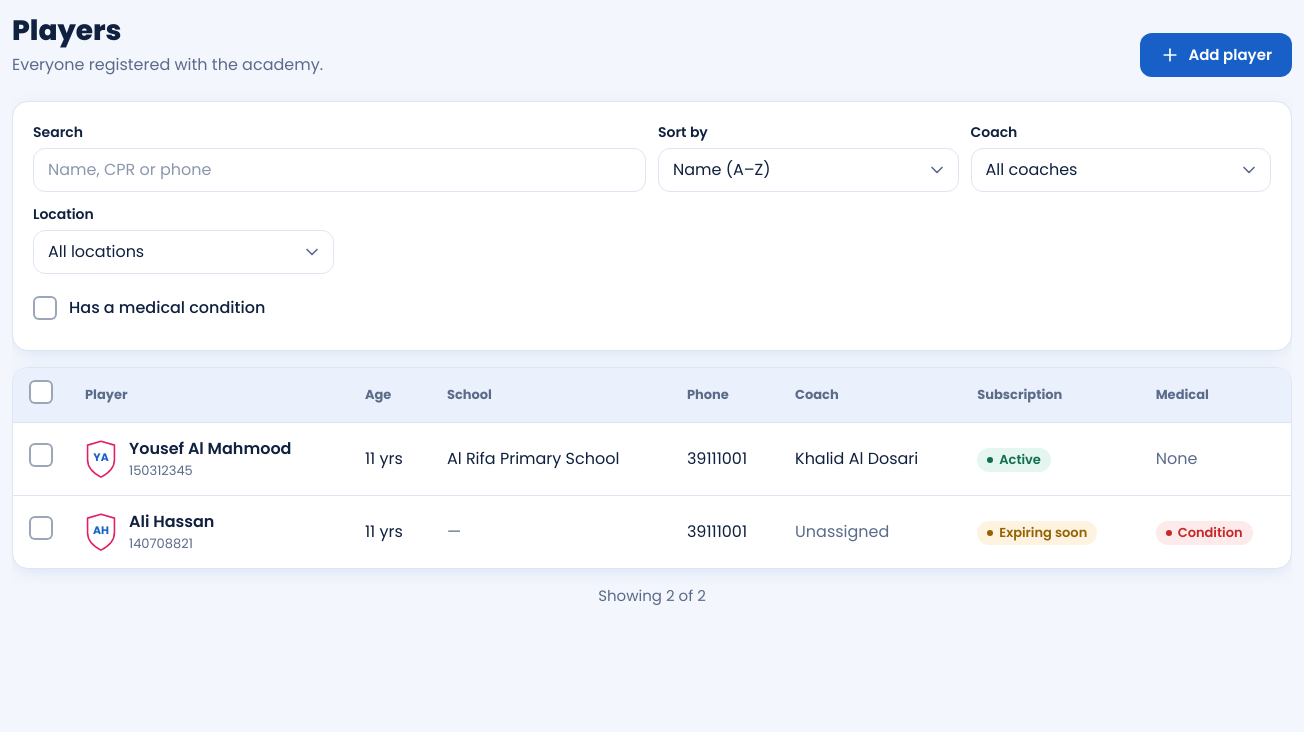
PlayersPage › as an admin › bulk assignment › shows how many are selected and does not navigate when ticking a box
The width and height of the screenshot is (1304, 732).
Click the checkbox named "Select Ali Hassan" at (41, 528), box [19,506,63,550]
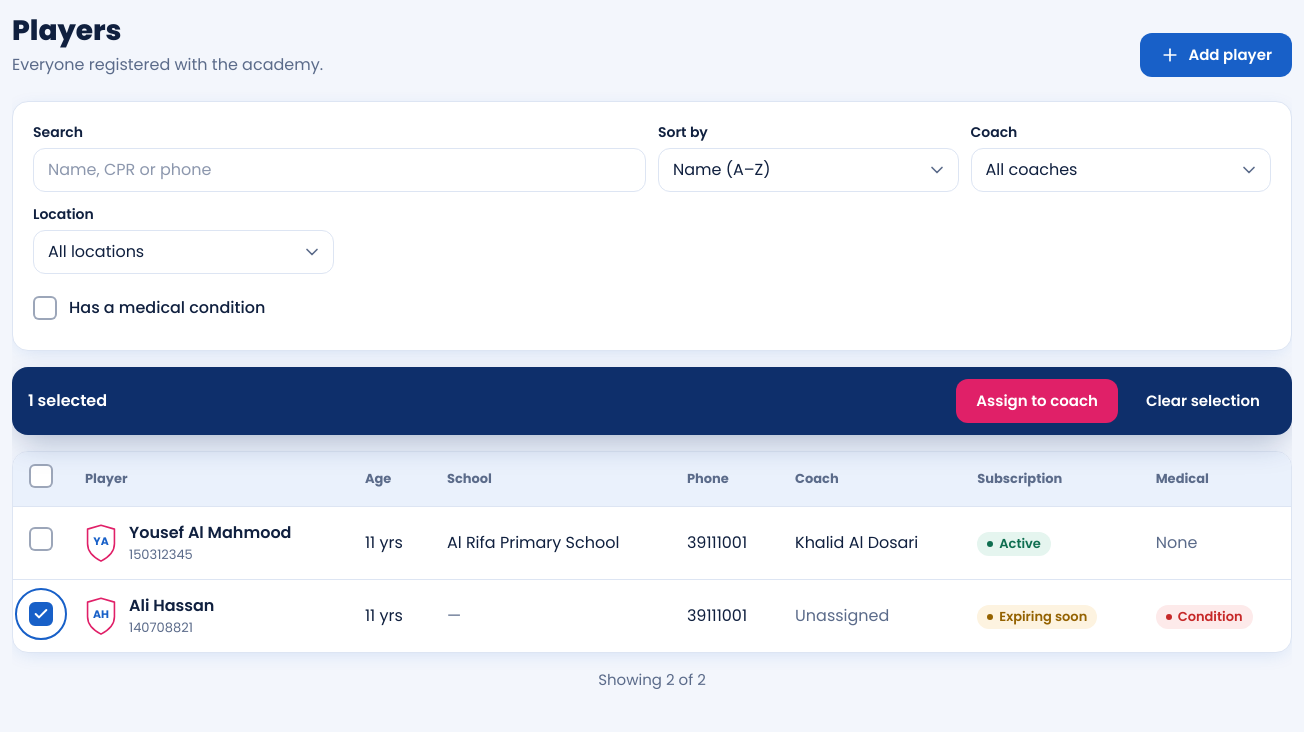
Result: the text "1 selected" is shown at [24,389,107,413]
